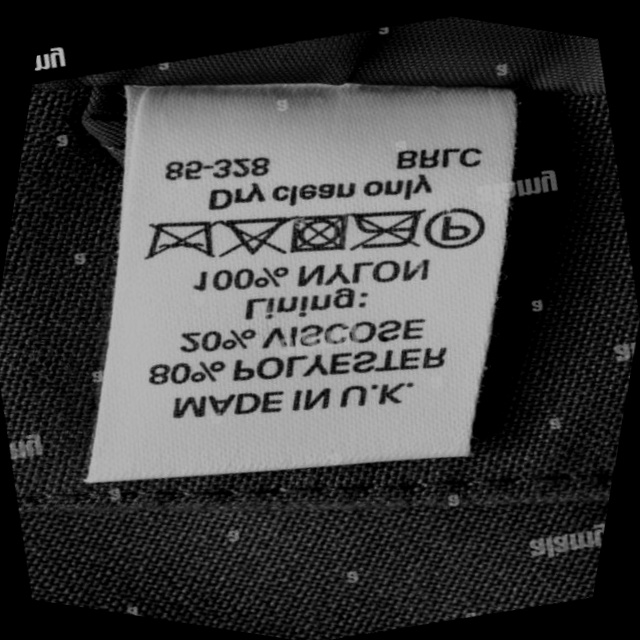DN_bleach: (221, 207, 290, 268)
DN_iron: (349, 198, 426, 262)
DN_tumble_dry: (289, 203, 352, 263)
DN_wash: (141, 208, 225, 273)
dry_clean_any_solvent_except_trichloroethylene: (419, 200, 492, 262)
